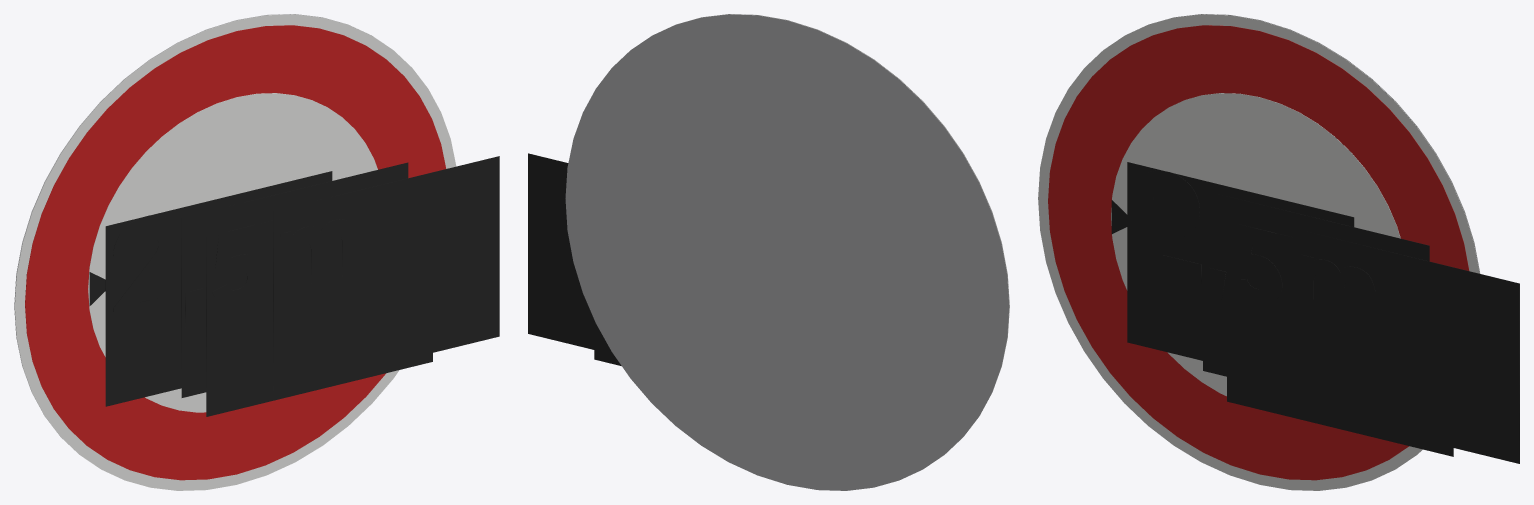
3 renders of one model, left to right at view 1: azimuth 30°, elevation 25°; view 2: azimuth 150°, elevation 25°; view 3: azimuth 330°, elevation 25°, orthographic.
Parts seen in each view (by area): view 1: B11_p01, B11_p12, B11_p02, B11_p00, B11_p10, B11_p06, B11_p08, B11_p07, B11_p13, B11_p11, B11_dos, B11_p09; view 2: B11_dos, B11_p12, B11_p00, B11_p10; view 3: B11_p01, B11_p12, B11_p02, B11_p00, B11_p10, B11_p06, B11_p08, B11_p07, B11_p13, B11_p11, B11_p09, B11_dos.
Part boxes in pixels (left/top/right/bottom): B11_p01: left=25, top=25, right=446, bottom=480; B11_p12: left=273, top=156, right=499, bottom=391; B11_p02: left=88, top=93, right=377, bottom=412; B11_p00: left=14, top=14, right=456, bottom=490; B11_p10: left=206, top=220, right=432, bottom=416; B11_p06: left=105, top=171, right=332, bottom=406; B11_p08: left=181, top=162, right=408, bottom=397; B11_p07: left=113, top=215, right=179, bottom=329; B11_p13: left=280, top=219, right=355, bottom=292; B11_p11: left=212, top=224, right=261, bottom=305; B11_dos: left=14, top=14, right=371, bottom=450; B11_p09: left=185, top=288, right=205, bottom=328; B11_dos: left=565, top=14, right=1009, bottom=490; B11_p12: left=528, top=153, right=594, bottom=349; B11_p00: left=658, top=14, right=1009, bottom=453; B11_p10: left=594, top=320, right=621, bottom=365; B11_p01: left=1048, top=25, right=1469, bottom=480; B11_p12: left=1293, top=228, right=1519, bottom=463; B11_p02: left=1111, top=93, right=1400, bottom=396; B11_p00: left=1038, top=14, right=1479, bottom=490; B11_p10: left=1227, top=221, right=1453, bottom=456; B11_p06: left=1127, top=162, right=1354, bottom=360; B11_p08: left=1203, top=190, right=1429, bottom=376; B11_p07: left=1134, top=170, right=1201, bottom=284; B11_p13: left=1300, top=254, right=1375, bottom=330; B11_p11: left=1233, top=224, right=1282, bottom=305; B11_p09: left=1206, top=267, right=1226, bottom=306; B11_dos: left=1127, top=14, right=1480, bottom=451.
Bounding box in the file's own units: 0.85 × 0.7804 × 0.0071.
